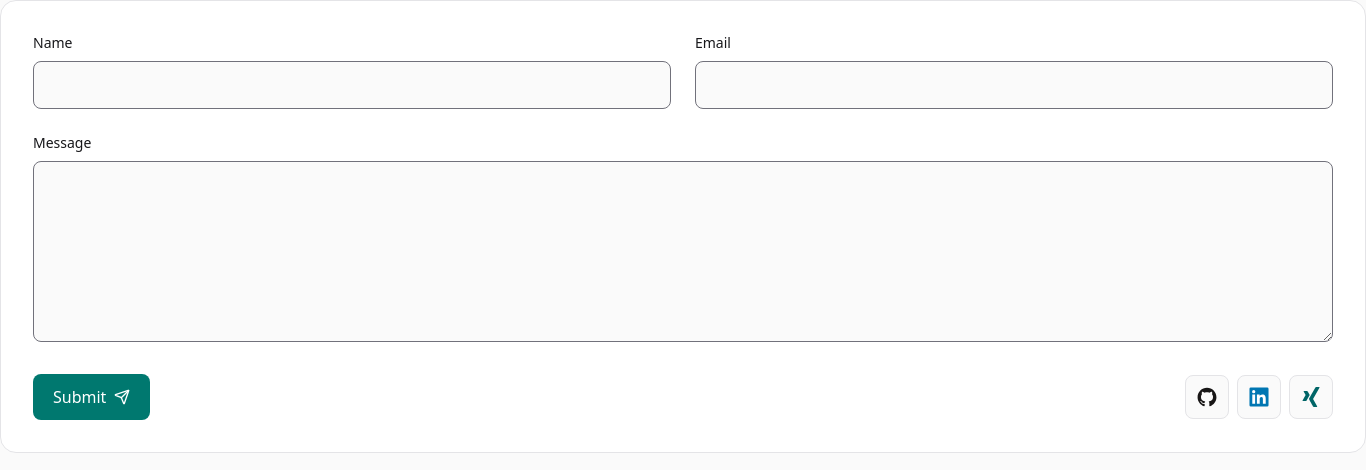
ContactForm › with an endpoint › posts the message as JSON, confirms it and clears the fields
This screenshot has width=1366, height=470.
Type "Alex" into the field with id "contact-name". click: (352, 85)
box: [33,61,671,109]
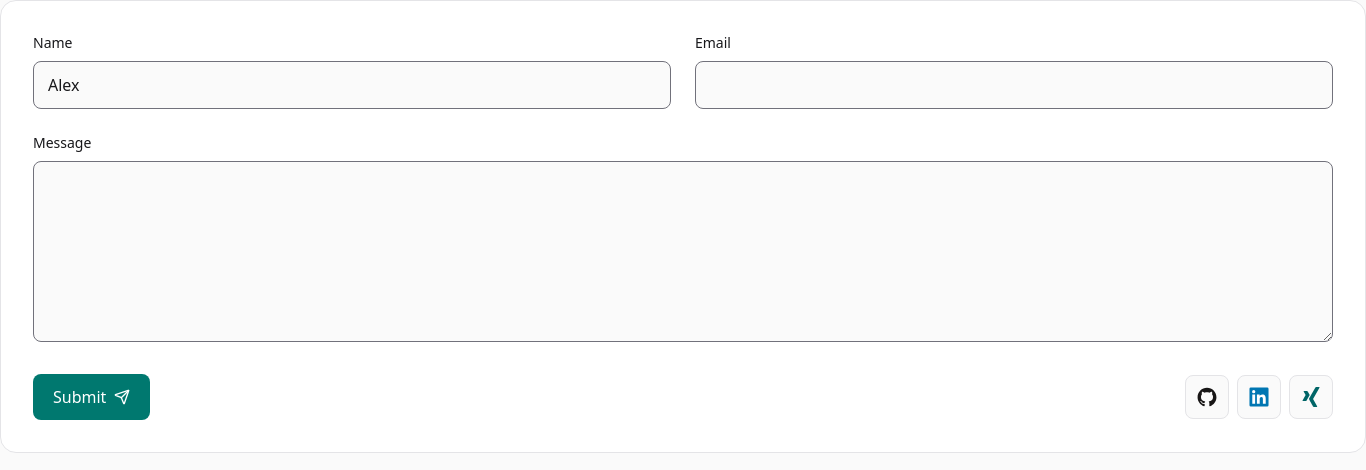
Type "alex@example.com" into the field with id "contact-email". click: (1014, 85)
box: [695,61,1333,109]
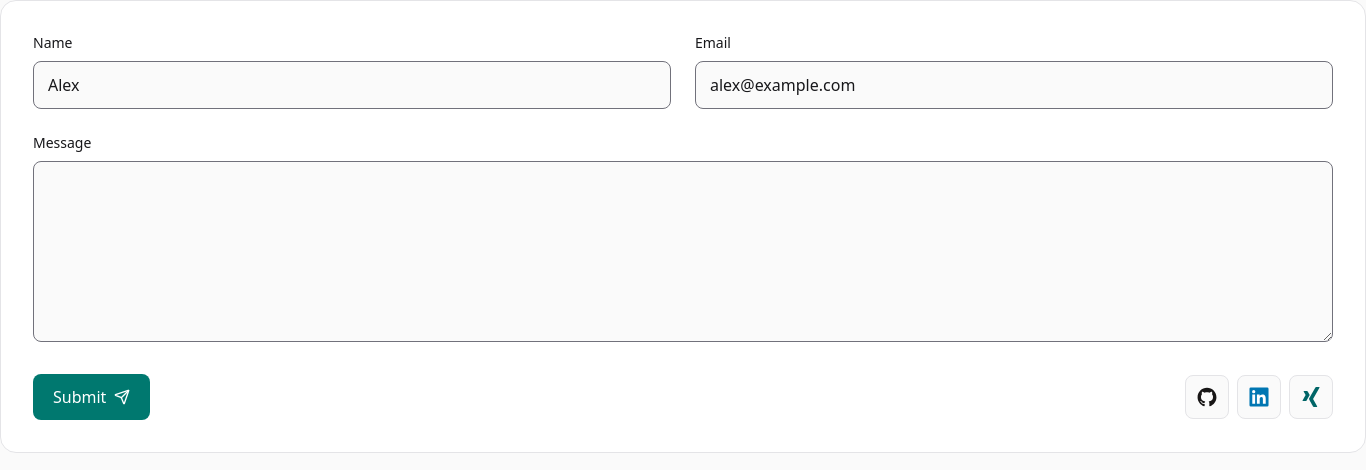
Type "Hello, nice portfolio!" into the text box with id "contact-message". click: (683, 252)
box: [33,161,1333,342]
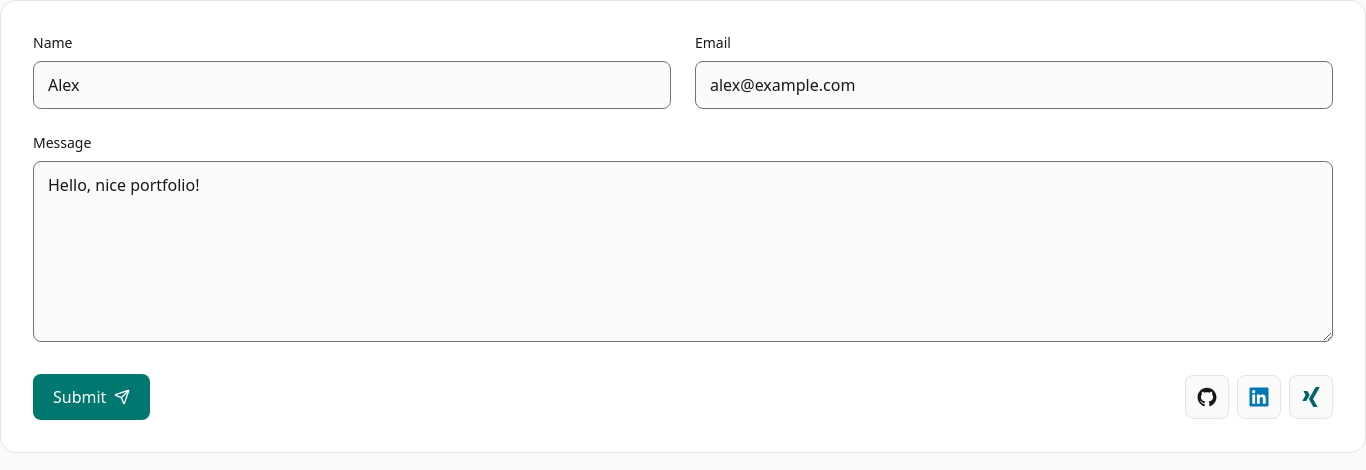
Submit the form
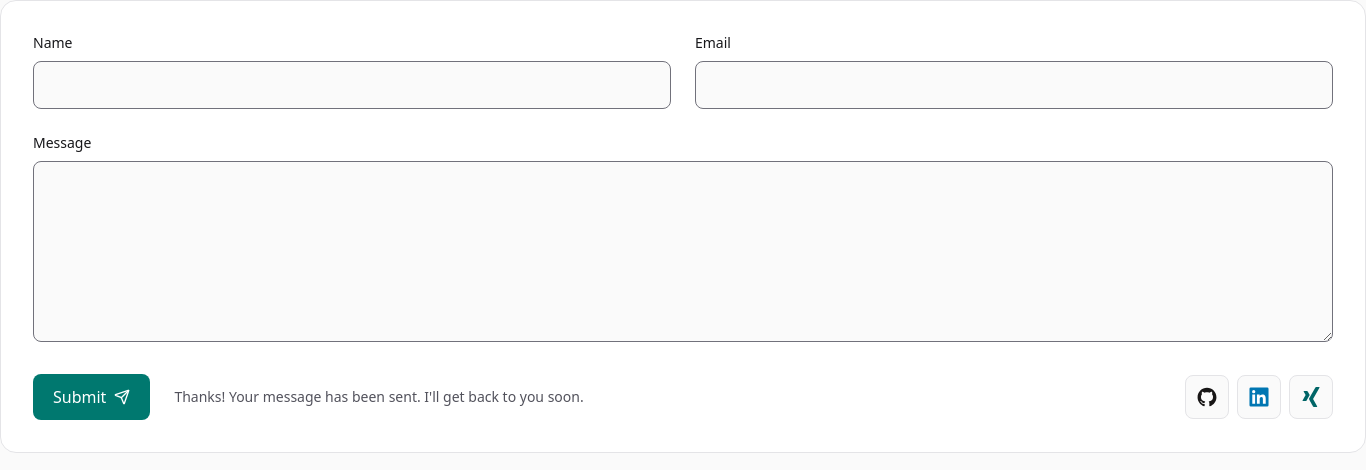
Check: the message "Thanks! Your message has been sent. I'll get back to you soon." is shown, box [174,387,584,407]
Check: the field with id "contact-name" is empty, box [33,61,671,109]
